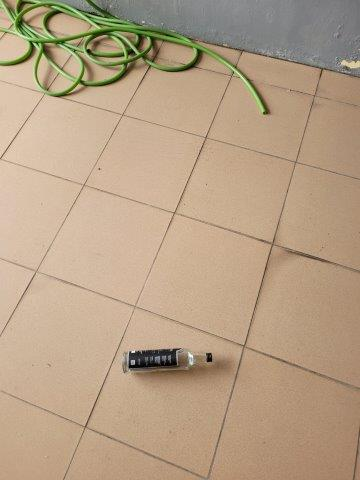botolkaca: (121, 347, 214, 372)
